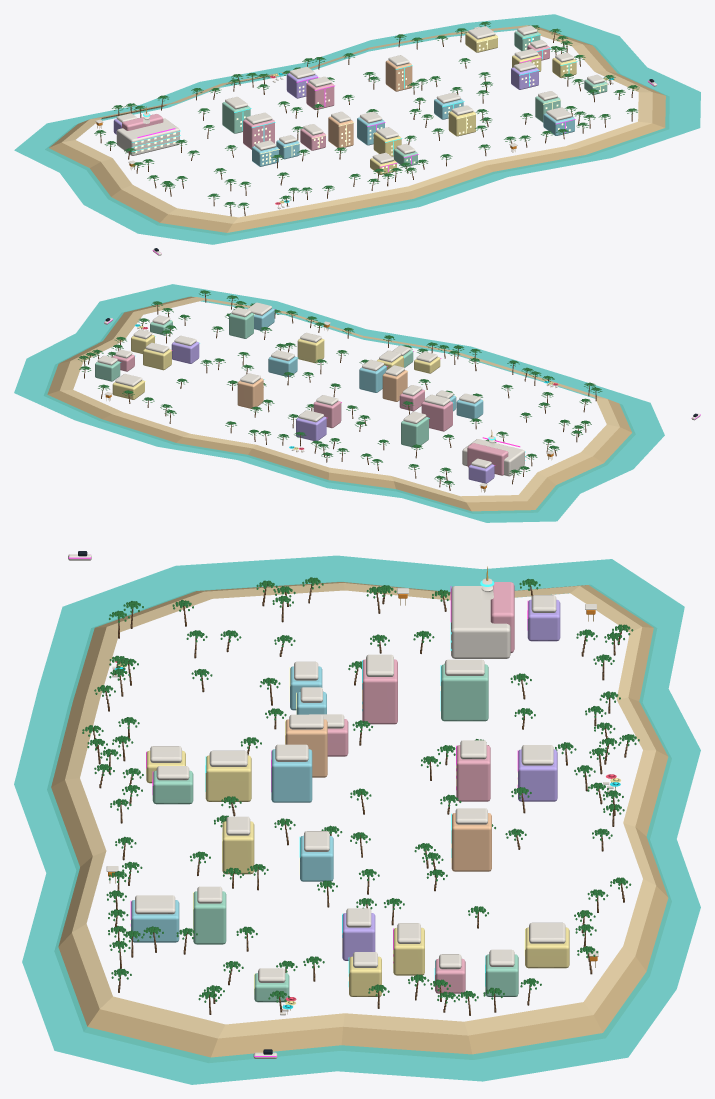
The model's file is by_miami.glb.
3 renders of one model, top to bottom at view 1: azimuth 30°, elevation 25°; view 2: azimuth 150°, elevation 25°; view 3: azimuth 270°, elevation 25°, orthographic. The views are drawn at different scales.
Parts seen in each view (by area): view 1: Lavt vand_net, Byen_net, Stranden_net, Palmer_net, Hotellet_net; view 2: Lavt vand_net, Byen_net, Stranden_net, Palmer_net, Hotellet_net; view 3: Lavt vand_net, Stranden_net, Byen_net, Palmer_net, Hotellet_net.
Boxes of the visible parts, x1,y1,x2,y2 form: Lavt vand_net: (14,14,700,244); Byen_net: (113,25,607,174); Stranden_net: (49,25,668,232); Palmer_net: (94,21,639,216); Hotellet_net: (116,106,180,155); Lavt vand_net: (14,284,664,522); Byen_net: (95,302,495,483); Stranden_net: (47,296,632,512); Palmer_net: (78,290,602,490); Hotellet_net: (462,430,525,476); Lavt vand_net: (14,555,700,1084); Stranden_net: (51,582,668,1057); Byen_net: (130,595,569,1002); Palmer_net: (82,577,639,1015); Hotellet_net: (450,566,514,658).
Bounding box in the file's own units: 94.55 × 7.2 × 51.85.
